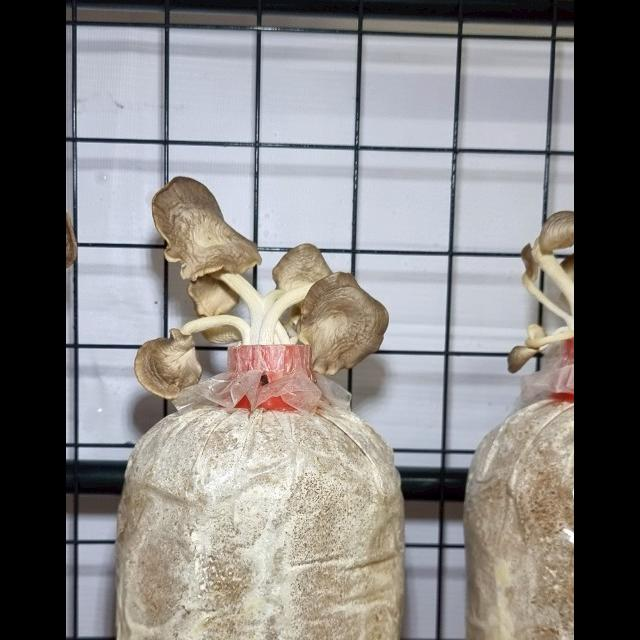abnormal: (154, 174, 265, 380), (123, 307, 266, 407), (289, 267, 392, 387), (254, 246, 328, 366)
